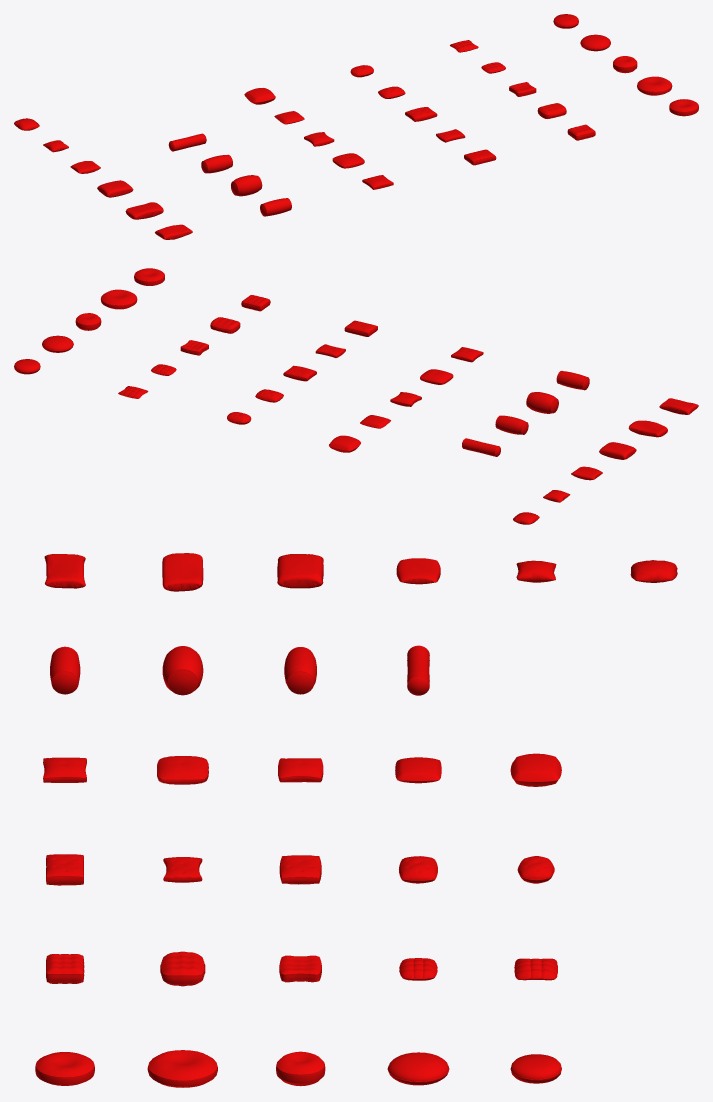
File: pillows_grp.fbx
3 views of the same model, one above another, from view 1: azimuth 30°, elevation 25°; view 2: azimuth 150°, elevation 25°; view 3: azimuth 270°, elevation 25° (orthographic). The views are drawn at different scales.
Visible parts, largest first — view 1: pillow_27, pillow_8, pillow_2, pillow_9, pillow_3, pillow_7, pillow_26, pillow_29, pillow_10, pillow_1, pillow_15, pillow_12; view 2: pillow_27, pillow_8, pillow_9, pillow_2, pillow_3, pillow_7, pillow_26, pillow_29, pillow_10, pillow_1, pillow_15; view 3: pillow_27, pillow_26, pillow_29, pillow_8, pillow_3, pillow_2, pillow_15, pillow_12, pillow_28, pillow_22, pillow_1, pillow_9 (+16 smaller).
Part boxes in pixels (bbox=[...]): pillow_27: bbox=[637, 76, 672, 95]; pillow_8: bbox=[231, 175, 262, 196]; pillow_2: bbox=[125, 202, 163, 219]; pillow_9: bbox=[201, 154, 232, 173]; pillow_3: bbox=[97, 180, 133, 197]; pillow_7: bbox=[260, 198, 291, 216]; pillow_26: bbox=[669, 99, 698, 116]; pillow_29: bbox=[580, 34, 610, 51]; pillow_10: bbox=[168, 133, 206, 151]; pillow_1: bbox=[155, 224, 192, 239]; pillow_15: bbox=[244, 88, 275, 104]; pillow_12: bbox=[332, 153, 364, 168]; pillow_27: bbox=[100, 289, 137, 309]; pillow_8: bbox=[526, 392, 558, 413]; pillow_9: bbox=[495, 415, 528, 434]; pillow_2: bbox=[628, 420, 667, 437]; pillow_3: bbox=[599, 442, 636, 459]; pillow_7: bbox=[556, 371, 589, 390]; pillow_26: bbox=[134, 268, 164, 285]; pillow_29: bbox=[42, 335, 73, 352]; pillow_10: bbox=[462, 438, 500, 456]; pillow_1: bbox=[659, 398, 698, 414]; pillow_15: bbox=[329, 435, 360, 452]; pillow_27: bbox=[147, 1050, 217, 1087]; pillow_26: bbox=[35, 1052, 94, 1085]; pillow_29: bbox=[387, 1052, 449, 1085]; pillow_8: bbox=[162, 646, 203, 695]; pillow_3: bbox=[277, 554, 323, 588]; pillow_2: bbox=[162, 553, 203, 591]; pillow_15: bbox=[510, 753, 561, 786]; pillow_12: bbox=[157, 756, 208, 784]; pillow_28: bbox=[276, 1051, 325, 1086]; pillow_22: bbox=[160, 951, 205, 986]; pillow_1: bbox=[44, 554, 85, 588]; pillow_9: bbox=[284, 647, 316, 694].
Bounding box in the file's own units: 1060 × 32.55 × 545.
